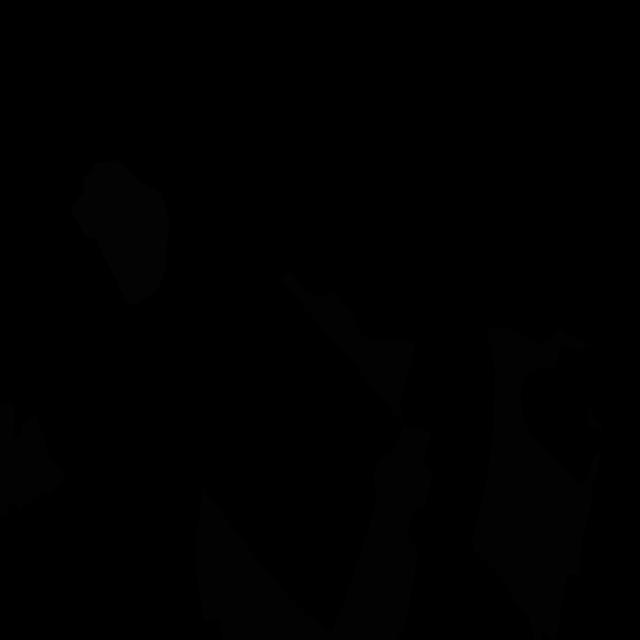cardboard: (195, 425, 432, 640), (481, 399, 601, 640), (279, 271, 416, 424), (486, 326, 591, 438), (0, 401, 64, 518), (472, 505, 509, 589), (588, 407, 603, 431)
metal: (71, 160, 170, 304)
